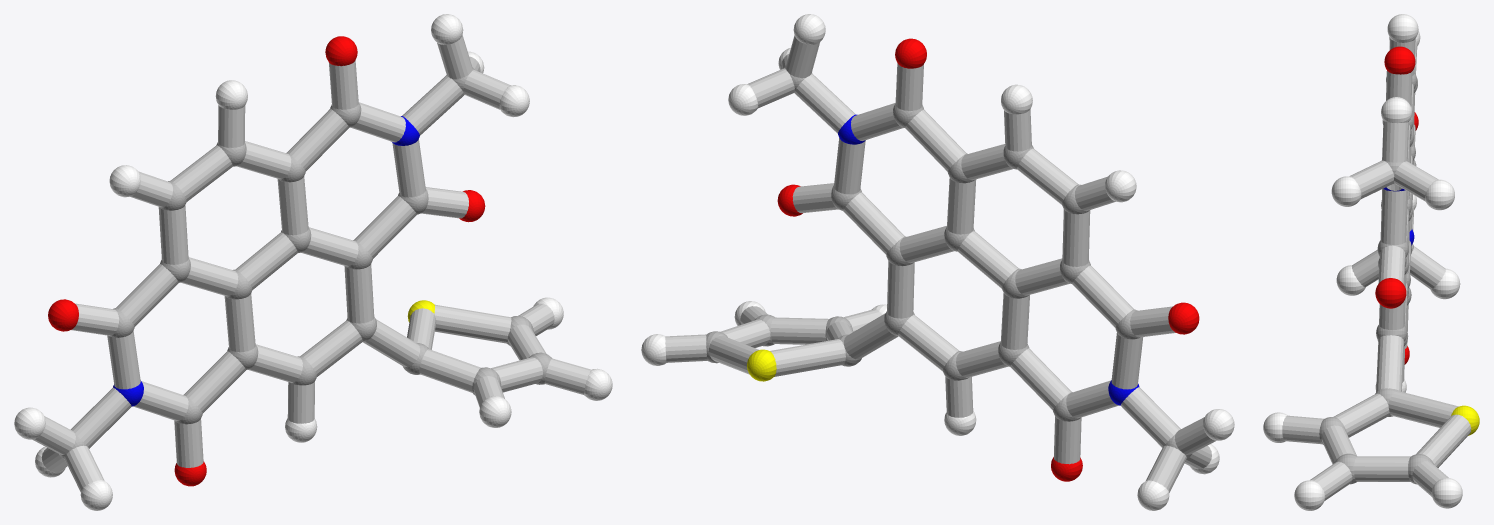
File: Dimethyl_Naphthalene_Dicarboximide_Phi_30_Theta_100_Thiophene.glb
3 views of the same model, side by side, from view 1: azimuth 30°, elevation 25°; view 2: azimuth 150°, elevation 25°; view 3: azimuth 270°, elevation 25° (orthographic). The views are drawn at different scales.
Visible parts, largest first — view 1: grp14119, grp7241, grp1, grp12309, grp11585; view 2: grp14119, grp7241, grp1, grp12309, grp13757, grp11585; view 3: grp14119, grp7241, grp1, grp12309, grp13757.
Part boxes in pixels (x1=…): grp14119: x1=32, y1=35, x2=591, y2=492; grp7241: x1=14, y1=14, x2=612, y2=510; grp1: x1=59, y1=67, x2=551, y2=459; grp12309: x1=48, y1=36, x2=485, y2=486; grp11585: x1=113, y1=116, x2=419, y2=406; grp14119: x1=665, y1=35, x2=1216, y2=492; grp7241: x1=641, y1=14, x2=1234, y2=510; grp1: x1=706, y1=66, x2=1191, y2=458; grp12309: x1=777, y1=38, x2=1199, y2=481; grp13757: x1=747, y1=349, x2=776, y2=381; grp11585: x1=838, y1=114, x2=1139, y2=405; grp14119: x1=1282, y1=38, x2=1471, y2=500; grp7241: x1=1263, y1=14, x2=1462, y2=510; grp1: x1=1319, y1=73, x2=1434, y2=484; grp12309: x1=1375, y1=46, x2=1418, y2=364; grp13757: x1=1451, y1=405, x2=1479, y2=435.
Size of the model in its own units: 12.2 by 8.36 by 4.18.
